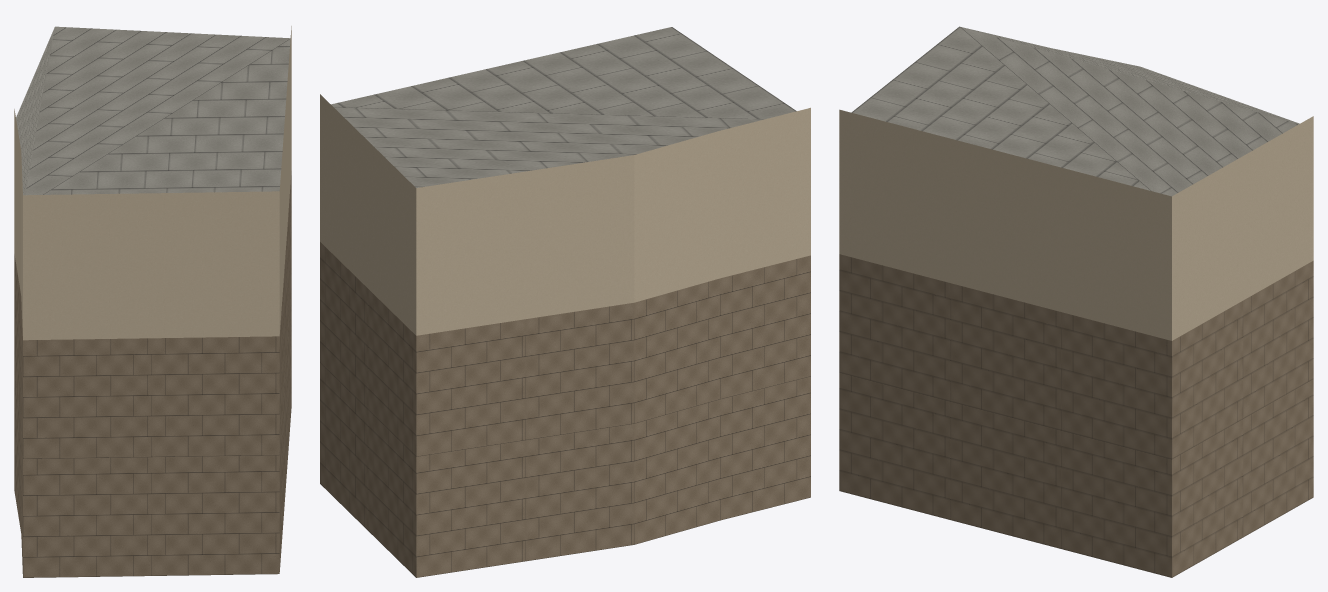
File: bld_c39_36_283.gltf
The picture shows the model from 3 angles, left to right: view 1: azimuth 30°, elevation 25°; view 2: azimuth 150°, elevation 25°; view 3: azimuth 270°, elevation 25°; orthographic projection. The views are drawn at different scales.
Visible parts, largest first — view 1: bld_c39_36_283; view 2: bld_c39_36_283; view 3: bld_c39_36_283.
Boxes of the visible parts, box(x1,y1,x2,y2) form: bld_c39_36_283: box(14, 26, 291, 577); bld_c39_36_283: box(320, 27, 810, 577); bld_c39_36_283: box(839, 26, 1313, 577).
Bounding box in the file's own units: 7.47 × 7.28 × 8.2.
Materials: 4 (4 with a texture image).
